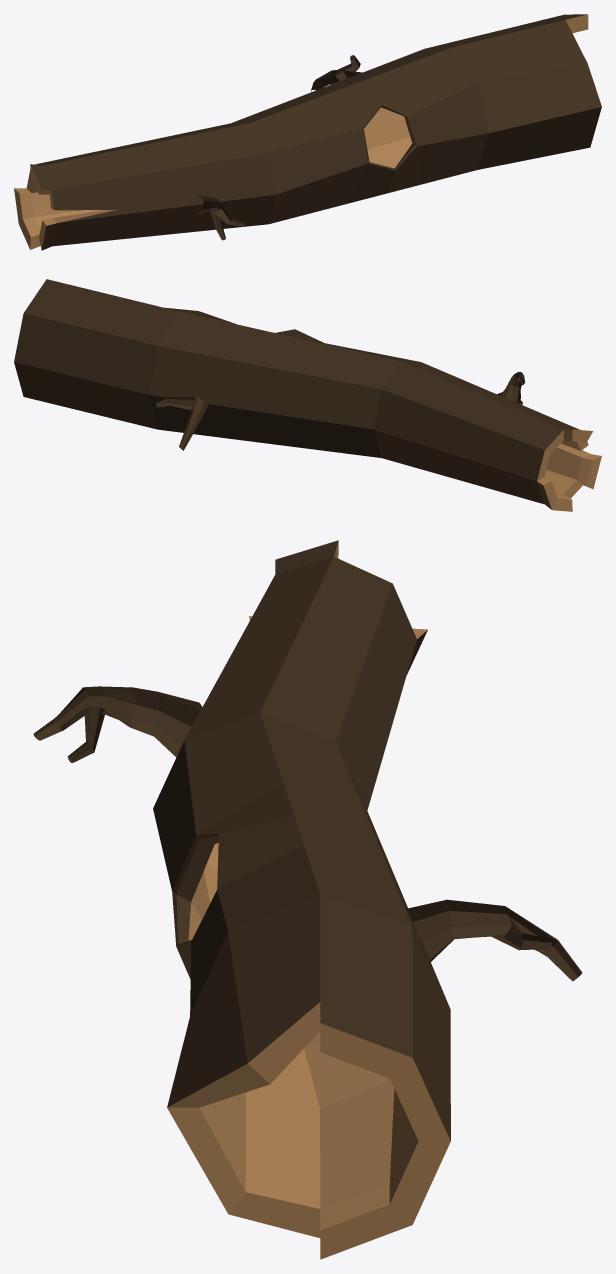
Rendered from Baumstamm.fbx.
3 views of the same model, one above another, from view 1: azimuth 30°, elevation 25°; view 2: azimuth 150°, elevation 25°; view 3: azimuth 270°, elevation 25° (orthographic). The views are drawn at different scales.
Parts seen in each view (by area): view 1: Baumstamm; view 2: Baumstamm; view 3: Baumstamm.
Boxes of the visible parts, x1=… form: Baumstamm: x1=14, y1=14, x2=601, y2=250; Baumstamm: x1=14, y1=279, x2=601, y2=511; Baumstamm: x1=33, y1=540, x2=582, y2=1259.
Bounding box in the file's own units: 1558 × 328 × 689.
